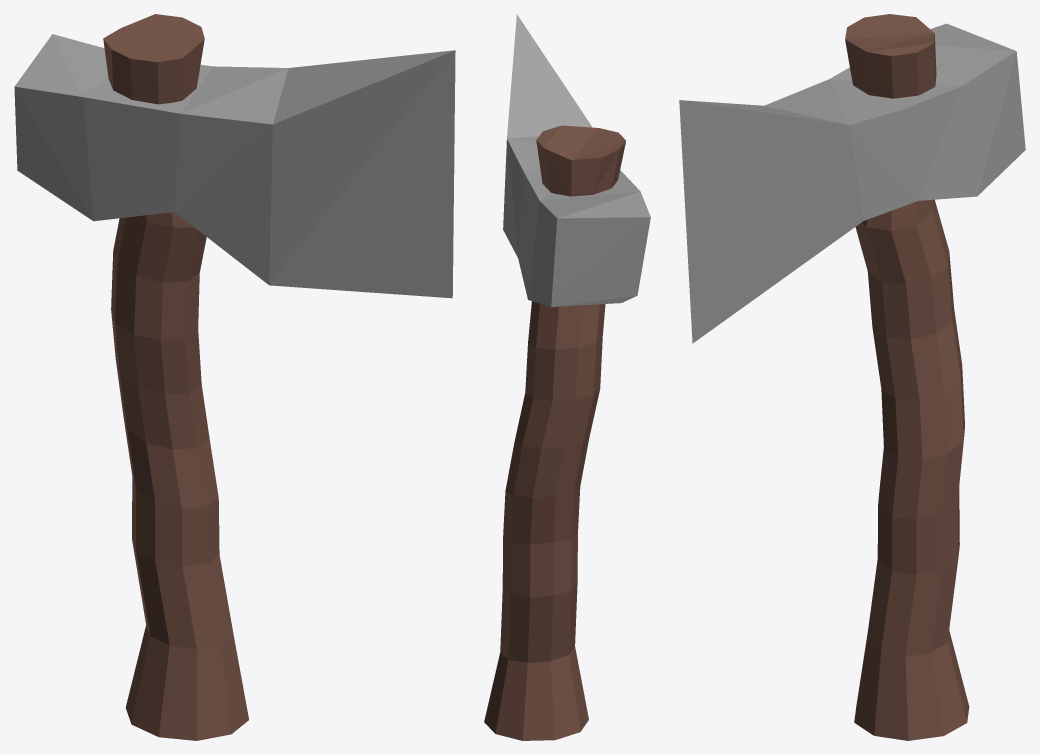
Rendered from axt.fbx.
3 renders of one model, left to right at view 1: azimuth 30°, elevation 25°; view 2: azimuth 150°, elevation 25°; view 3: azimuth 270°, elevation 25°, orthographic. The views are drawn at different scales.
Parts seen in each view (by area): view 1: group_1426581620, group_604253641; view 2: group_604253641, group_1426581620; view 3: group_1426581620, group_604253641.
Part boxes in pixels (left/top/right/bottom): group_1426581620: left=14, top=34, right=455, bottom=298; group_604253641: left=103, top=14, right=248, bottom=740; group_604253641: left=484, top=125, right=625, bottom=740; group_1426581620: left=503, top=14, right=650, bottom=306; group_1426581620: left=679, top=23, right=1025, bottom=343; group_604253641: left=845, top=14, right=969, bottom=740.
Size of the model in its own units: 19.66 by 44.36 by 20.37.
